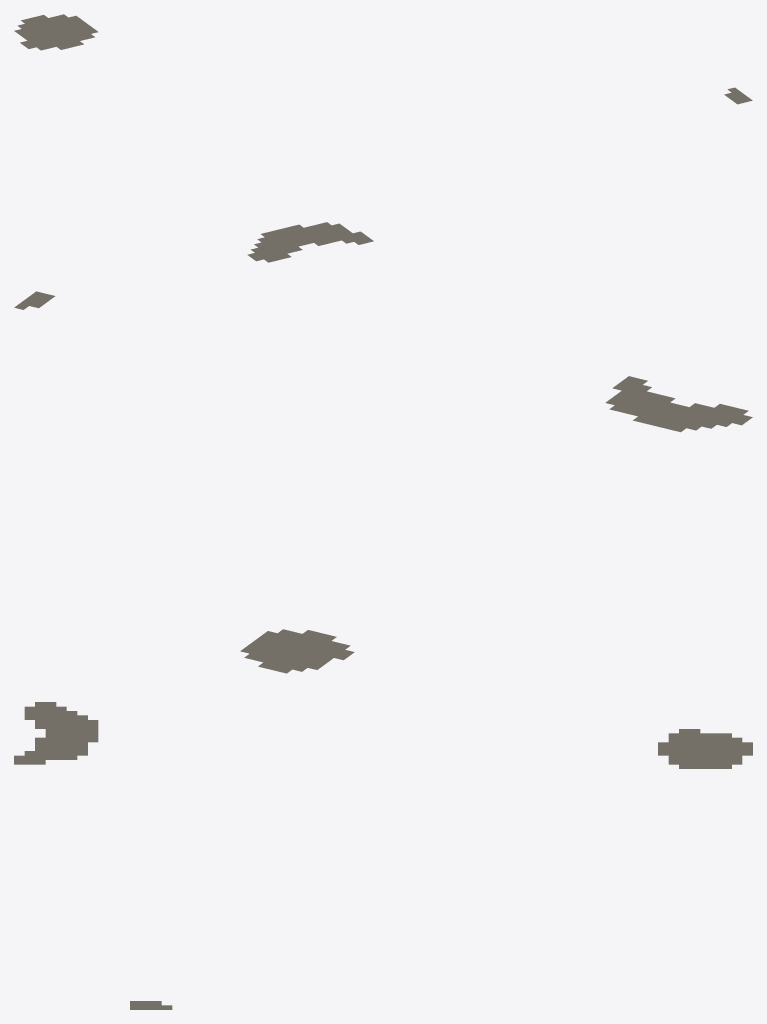
Rendered from Isl-hilly1-RocksArea.fbx.
3 renders of one model, top to bottom at view 1: azimuth 30°, elevation 25°; view 2: azimuth 150°, elevation 25°; view 3: azimuth 270°, elevation 25°, orthographic. The views are drawn at different scales.
Parts seen in each view (by area): view 1: Isl-hilly1-RocksArea; view 2: Isl-hilly1-RocksArea; view 3: Isl-hilly1-RocksArea.
Boxes of the visible parts, x1,y1,x2,y2 form: Isl-hilly1-RocksArea: (14,14,752,262); Isl-hilly1-RocksArea: (14,291,752,673); Isl-hilly1-RocksArea: (14,702,752,1009).
Bounding box in the file's own units: 69 × 0 × 70.
